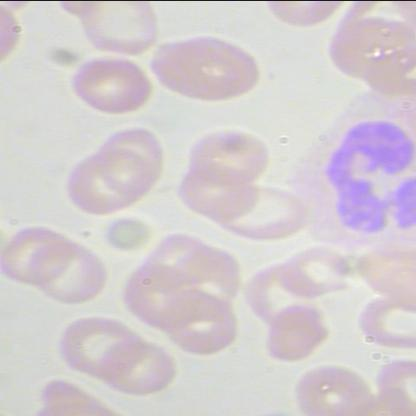RBC: (148, 26, 266, 106), (27, 228, 113, 310), (55, 148, 151, 218), (184, 120, 274, 191), (70, 56, 158, 122), (98, 334, 180, 400), (157, 292, 239, 356), (53, 316, 136, 378), (142, 226, 212, 292), (278, 244, 352, 303), (263, 302, 331, 362), (175, 245, 241, 306)
WBC: (284, 84, 416, 258)
